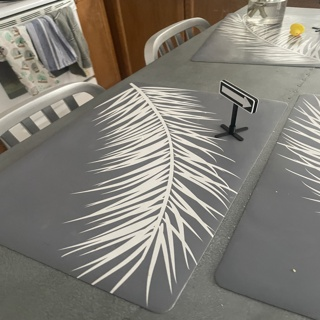sign_oneway_right: (217, 80, 253, 112)
